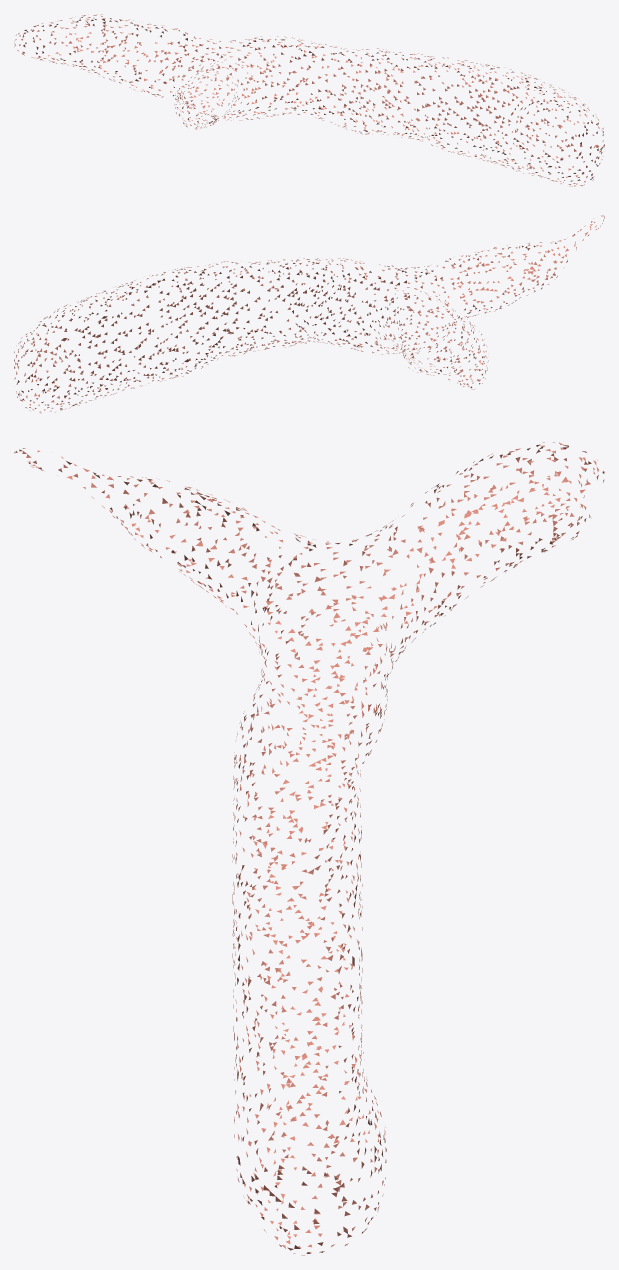
Rendered from morph_002.glb.
The picture shows the model from 3 angles, top to bottom: view 1: azimuth 30°, elevation 25°; view 2: azimuth 150°, elevation 25°; view 3: azimuth 270°, elevation 25°; orthographic projection. The views are drawn at different scales.
Bounding box in the file's own units: 120 × 52.85 × 67.91.
